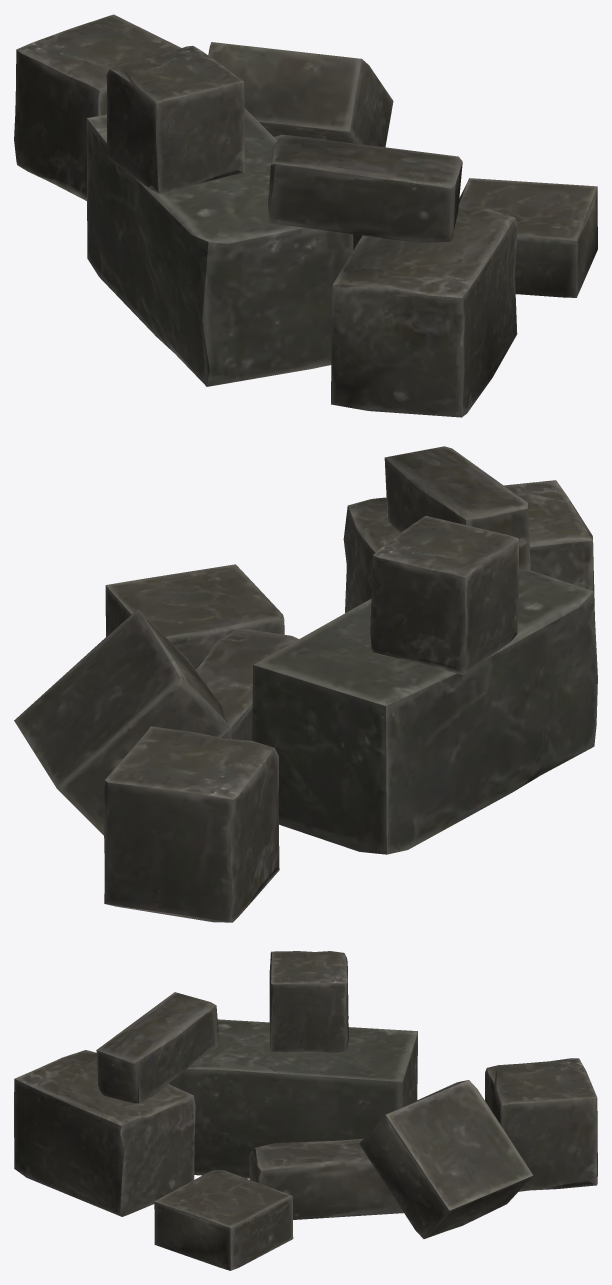
3 views of the same model, one above another, from view 1: azimuth 30°, elevation 25°; view 2: azimuth 150°, elevation 25°; view 3: azimuth 270°, elevation 25° (orthographic). The views are drawn at different scales.
Visible parts, largest first — view 1: SM_DR_Nexus_Rubble_02_LOD0; view 2: SM_DR_Nexus_Rubble_02_LOD0; view 3: SM_DR_Nexus_Rubble_02_LOD0.
Part boxes in pixels (box(x1,y1,x2,y2)): SM_DR_Nexus_Rubble_02_LOD0: box(14, 14, 597, 417); SM_DR_Nexus_Rubble_02_LOD0: box(14, 446, 597, 922); SM_DR_Nexus_Rubble_02_LOD0: box(14, 951, 597, 1270).
Size of the model in its own units: 3.48 by 1.88 by 5.45.
1 material, 1 textured.
